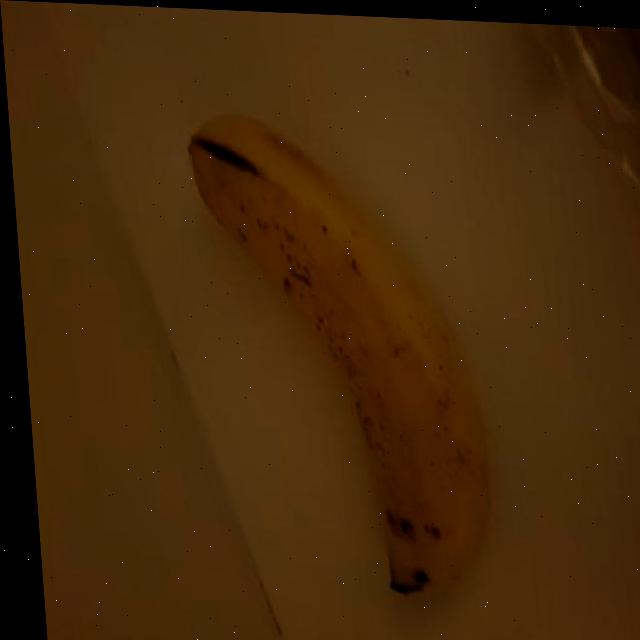banana: (174, 99, 511, 618)
